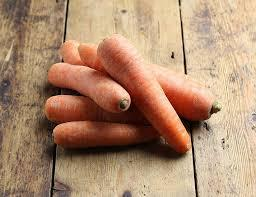Organic: (22, 19, 246, 183)
